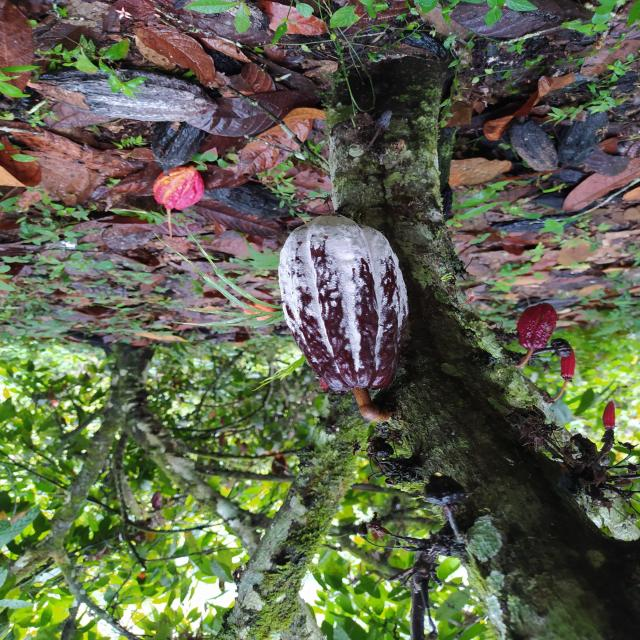Monilia: (278, 218, 410, 391)
Sana: (518, 302, 558, 349), (560, 348, 575, 382), (602, 400, 616, 428)
